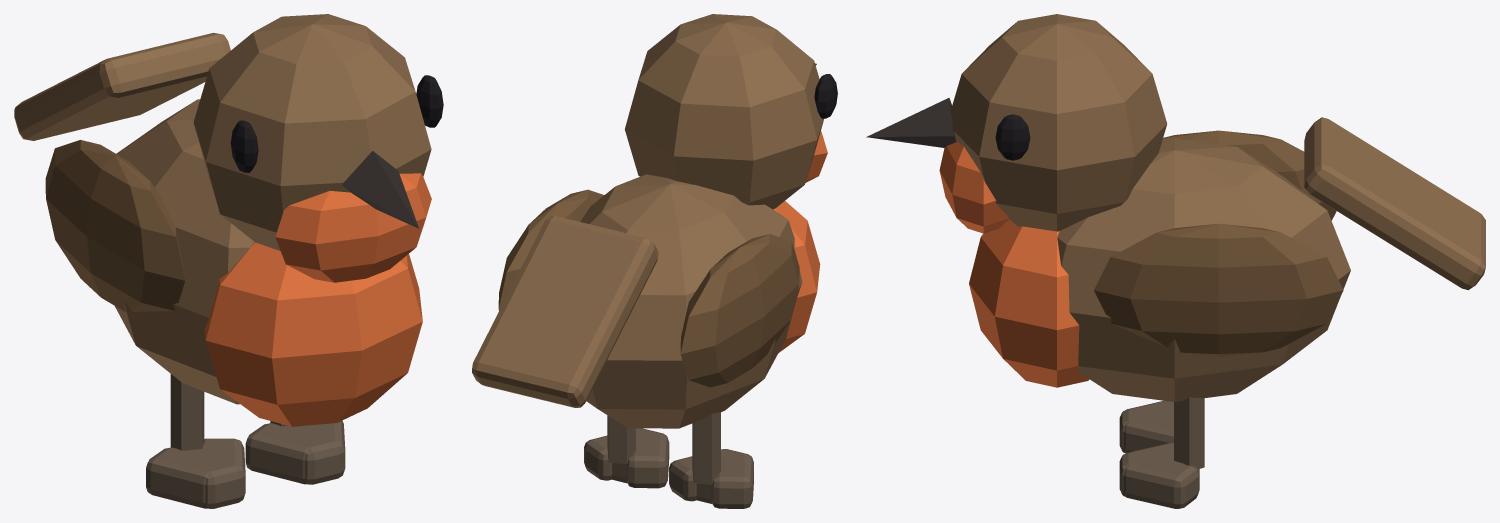
The model's file is robin.glb.
3 renders of one model, left to right at view 1: azimuth 30°, elevation 25°; view 2: azimuth 150°, elevation 25°; view 3: azimuth 270°, elevation 25°, orthographic. The views are drawn at different scales.
Parts seen in each view (by area): view 1: body_mesh, head_mesh, wing_r_mesh, leg_r_mesh, leg_l_mesh; view 2: body_mesh, head_mesh, wing_r_mesh, leg_r_mesh, leg_l_mesh, wing_l_mesh; view 3: body_mesh, head_mesh, wing_l_mesh, leg_l_mesh, wing_r_mesh, leg_r_mesh.
Boxes of the visible parts, x1,y1,x2,y2 form: body_mesh: (14, 32, 422, 426); head_mesh: (193, 14, 443, 282); wing_r_mesh: (45, 140, 185, 311); leg_r_mesh: (146, 374, 245, 508); leg_l_mesh: (245, 420, 345, 484); body_mesh: (472, 174, 820, 428); head_mesh: (624, 14, 837, 209); wing_r_mesh: (680, 234, 799, 387); leg_r_mesh: (669, 412, 753, 508); leg_l_mesh: (584, 415, 669, 488); wing_l_mesh: (498, 189, 604, 310); body_mesh: (969, 117, 1485, 401); head_mesh: (866, 14, 1167, 233); wing_l_mesh: (1094, 223, 1343, 356); leg_l_mesh: (1119, 397, 1204, 508); wing_r_mesh: (1162, 130, 1336, 220); leg_r_mesh: (1119, 400, 1173, 453).
Size of the model in its own units: 0.19 by 0.335 by 0.4218.
